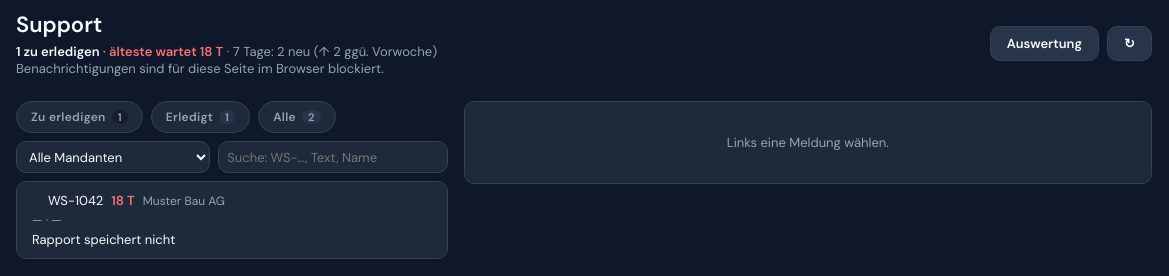
SupportTicketsScreen — Posteingang › zeigt beim Öffnen nur, was zu erledigen ist
Check: the text "Rapport speichert nicht" is shown, box [32, 231, 175, 248]
Check: the text "Längst erledigt" is not shown
Click the tab "Erledigt 1".
click(200, 117)  # box [151, 101, 250, 133]
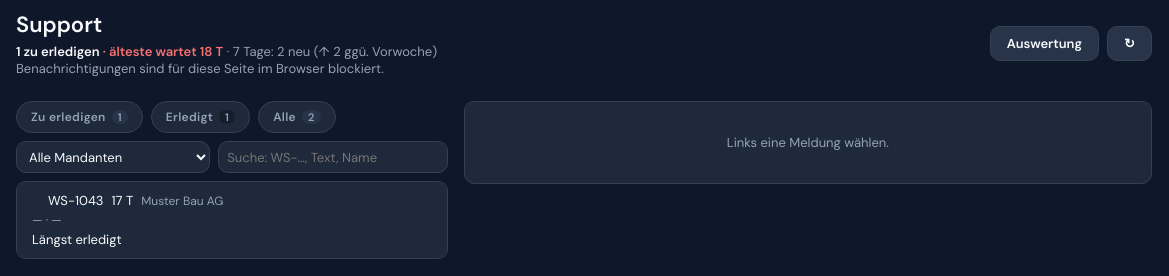
Check: the text "Längst erledigt" is shown, box [32, 231, 122, 248]
